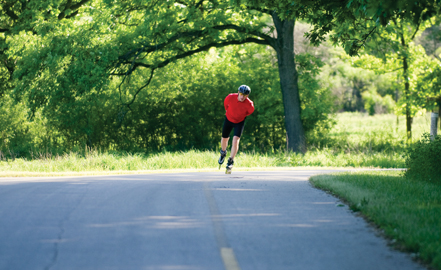Person: (218, 85, 255, 174)
